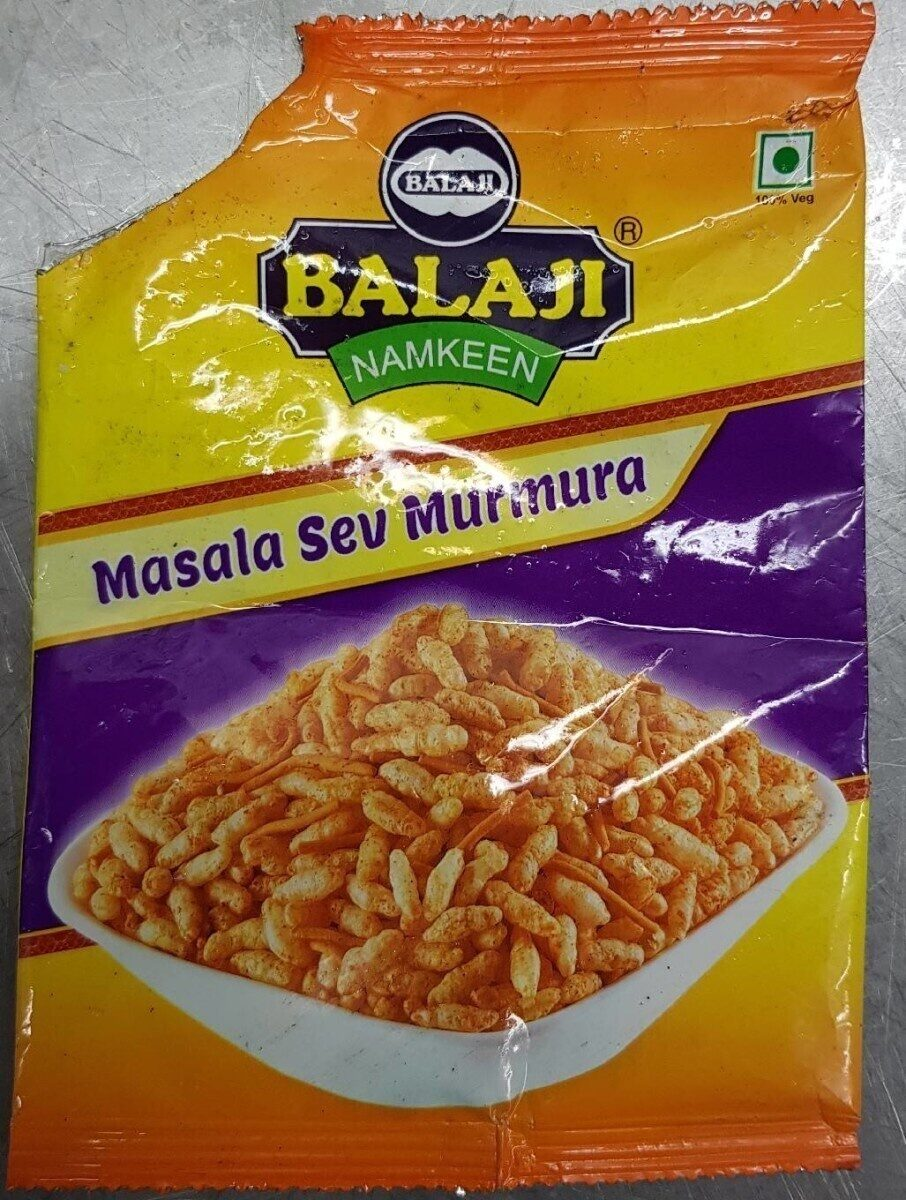Balaji Wafers Masala Sev Murmura: (82, 108, 824, 1092)
